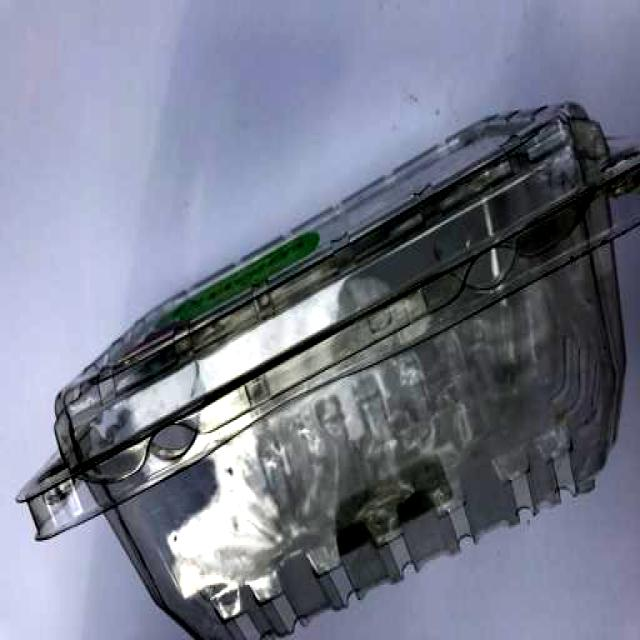Plastic: (5, 94, 640, 640)
